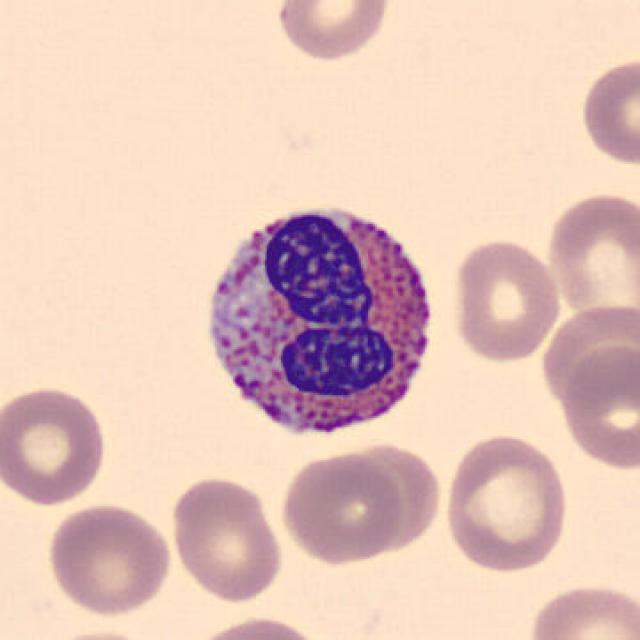Eosinophil: (190, 192, 448, 457)
RBC: (439, 430, 573, 575), (43, 499, 176, 619), (167, 472, 286, 604), (277, 448, 407, 566), (448, 234, 564, 365), (0, 381, 110, 508), (328, 440, 440, 554), (542, 188, 640, 316), (537, 296, 636, 416), (555, 342, 638, 473), (272, 0, 394, 63), (576, 53, 640, 169), (523, 578, 638, 640), (185, 612, 329, 640), (36, 626, 162, 640)
